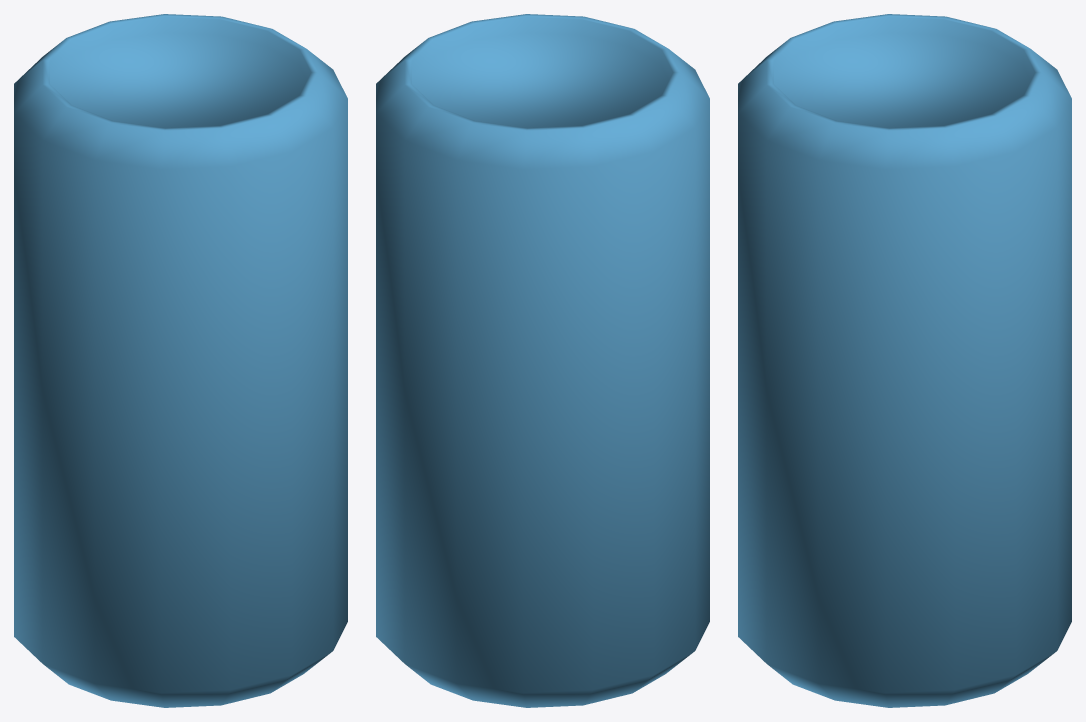
Rendered from Can.fbx.
3 views of the same model, side by side, from view 1: azimuth 30°, elevation 25°; view 2: azimuth 150°, elevation 25°; view 3: azimuth 270°, elevation 25° (orthographic).
Visible parts, largest first — view 1: Can; view 2: Can; view 3: Can.
Part boxes in pixels (x1,y1,x2,y2): Can: (14,14,347,707); Can: (376,14,709,707); Can: (738,14,1071,707).
Size of the model in its own units: 6.22 by 11.81 by 6.18.
